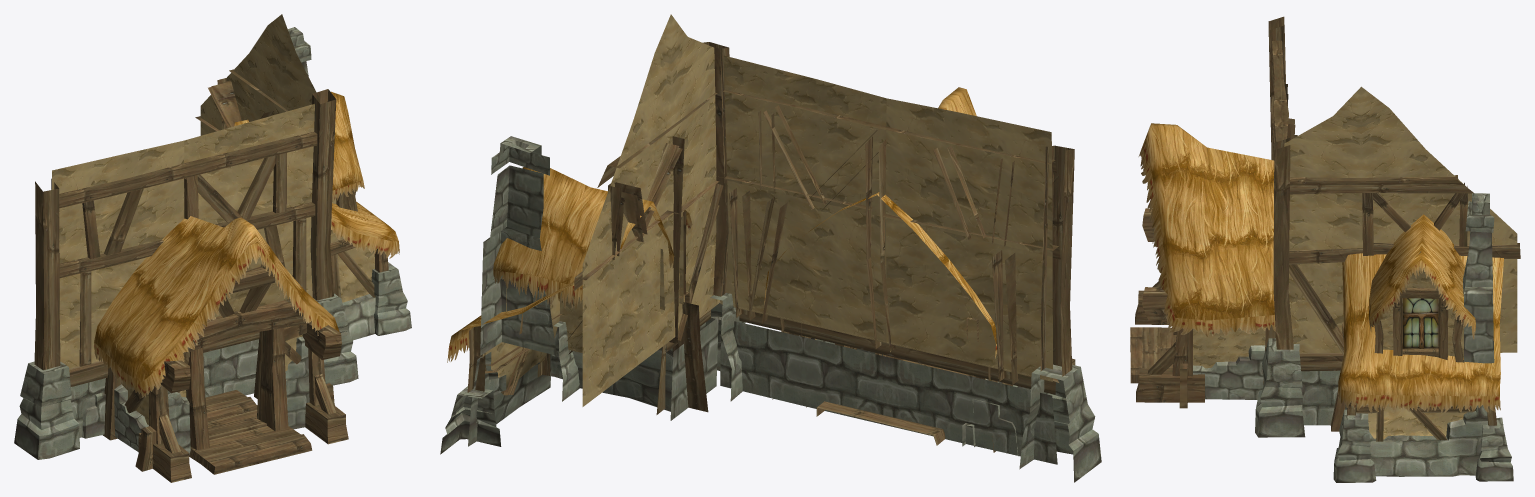
The model's file is SM_Town004_House02.FBX.
The picture shows the model from 3 angles, left to right: view 1: azimuth 30°, elevation 25°; view 2: azimuth 150°, elevation 25°; view 3: azimuth 270°, elevation 25°; orthographic projection. The views are drawn at different scales.
Visible parts, largest first — view 1: SM_Town004_House02; view 2: SM_Town004_House02; view 3: SM_Town004_House02.
Boxes of the visible parts, x1,y1,x2,y2 form: SM_Town004_House02: [14, 14, 411, 482]; SM_Town004_House02: [440, 14, 1101, 482]; SM_Town004_House02: [1130, 16, 1520, 482].
Bounding box in the file's own units: 1379 × 1104 × 1062.
Materials: 6 (6 with a texture image).
